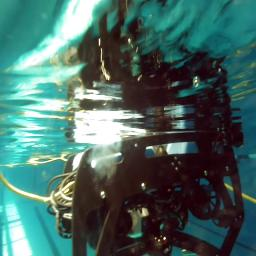Side: (54, 130, 246, 256)
